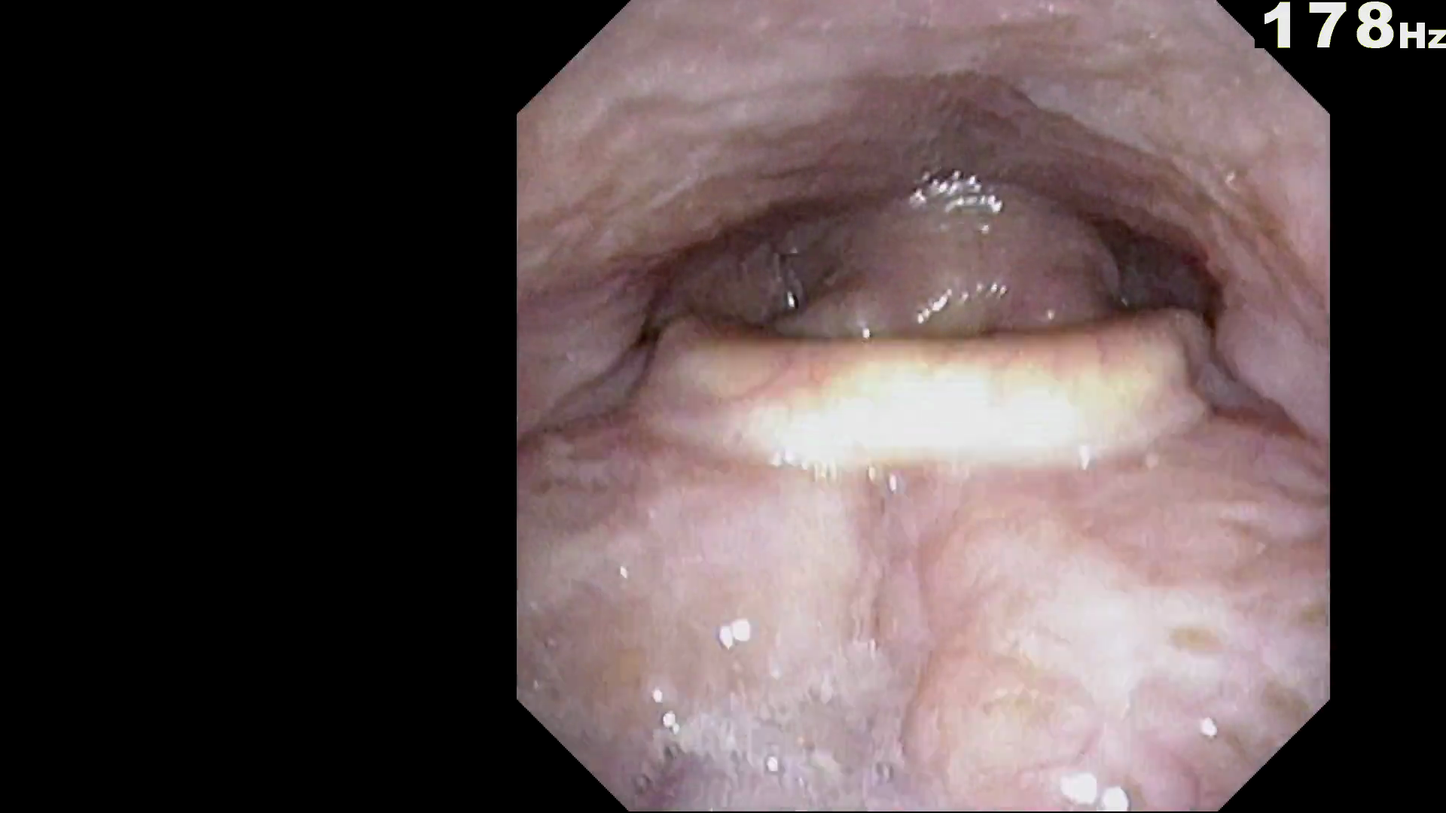epiglottis: (623, 303, 1221, 483)
